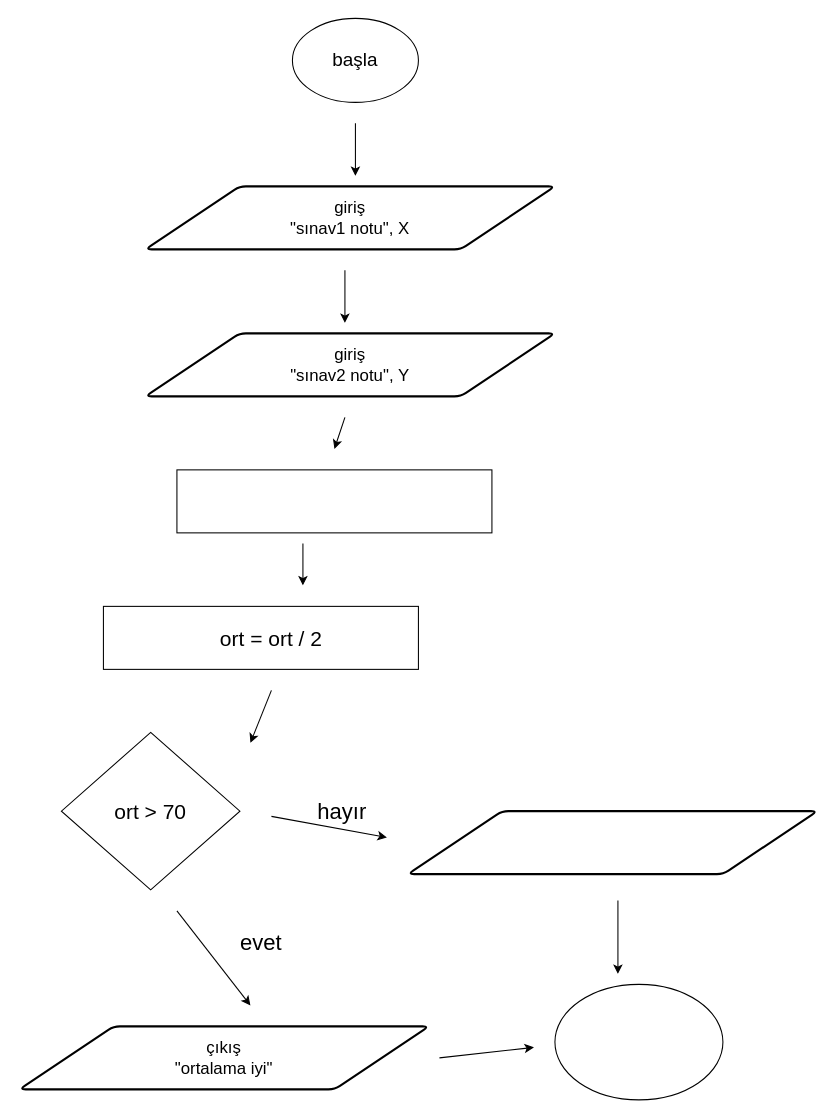
The diagram is 836 pixels wide and 1118 high, and some of its shapes have lost their labels. Each missing label, with the centre of its shape:
dur: point 638,1041
ort = X + Y: point 334,501
çıkış "ortalama kötü": point 612,842
